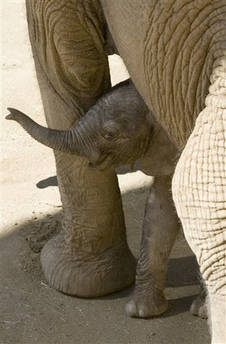elephant: (3, 71, 226, 336)
